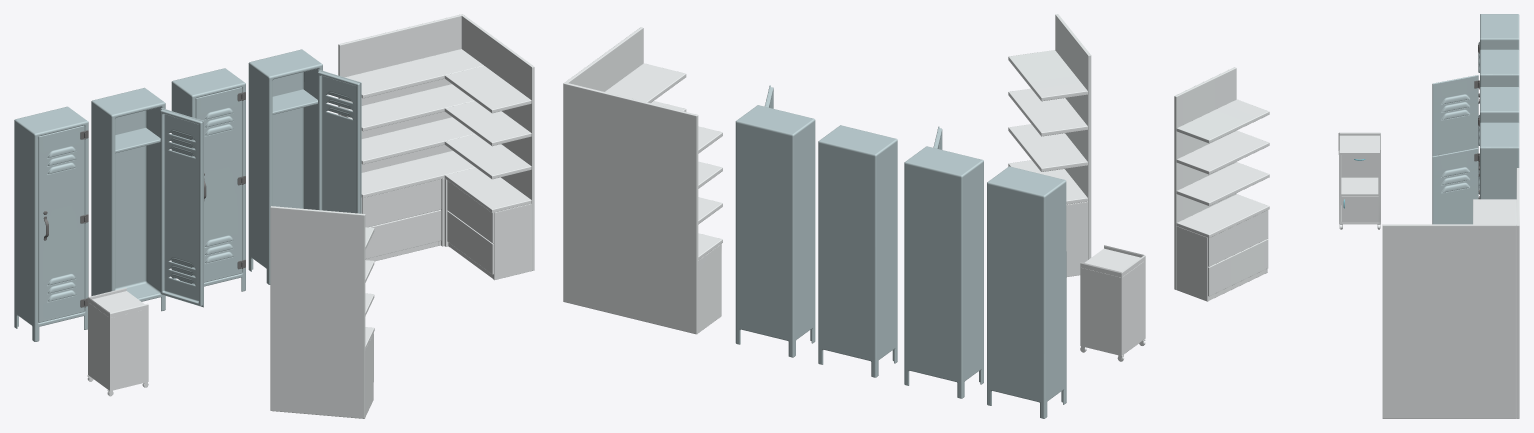
Rendered from VESTIER .fbx.
3 views of the same model, side by side, from view 1: azimuth 30°, elevation 25°; view 2: azimuth 150°, elevation 25°; view 3: azimuth 270°, elevation 25° (orthographic). The views are drawn at different scales.
Visible parts, largest first — view 1: drawer_face_004_mesh, locker_002_mesh.001, shelf_011_mesh, locker_002_mesh.002, locker_002_mesh, cabinet_body_mesh; view 2: drawer_face_004_mesh, locker_002_mesh.001, locker_002_mesh.002, locker_002_mesh, shelf_011_mesh, cabinet_body_mesh; view 3: drawer_face_004_mesh, shelf_011_mesh, locker_002_mesh.001, locker_002_mesh.002, cabinet_body_mesh, locker_002_mesh.
Part boxes in pixels (left/top/right/bottom): drawer_face_004_mesh: left=338, top=14, right=534, bottom=280; locker_002_mesh.001: left=14, top=87, right=203, bottom=341; shelf_011_mesh: left=270, top=206, right=374, bottom=418; locker_002_mesh.002: left=248, top=49, right=361, bottom=284; locker_002_mesh: left=171, top=68, right=245, bottom=291; cabinet_body_mesh: left=87, top=287, right=148, bottom=396; drawer_face_004_mesh: left=563, top=27, right=722, bottom=334; locker_002_mesh.001: left=904, top=126, right=1066, bottom=418; locker_002_mesh.002: left=735, top=85, right=815, bottom=357; locker_002_mesh: left=818, top=125, right=897, bottom=377; shelf_011_mesh: left=1008, top=14, right=1091, bottom=276; cabinet_body_mesh: left=1080, top=245, right=1145, bottom=361; drawer_face_004_mesh: left=1382, top=168, right=1519, bottom=418; shelf_011_mesh: left=1174, top=67, right=1269, bottom=301; locker_002_mesh.001: left=1432, top=14, right=1519, bottom=193; locker_002_mesh.002: left=1432, top=122, right=1519, bottom=224; cabinet_body_mesh: left=1338, top=132, right=1380, bottom=229; locker_002_mesh: left=1478, top=87, right=1519, bottom=199.
Bounding box in the file's own units: 501 × 223 × 352.
Materials: 12 (8 with a texture image).
